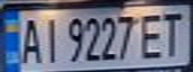2: (81, 14, 103, 63), (100, 12, 121, 63)
7: (115, 11, 139, 61)
9: (63, 13, 84, 64)
A: (15, 15, 45, 65)
E: (136, 10, 169, 60)
I: (39, 13, 60, 64)
T: (157, 8, 190, 59)
